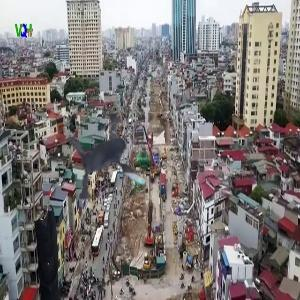drone: (46, 98, 192, 244)
